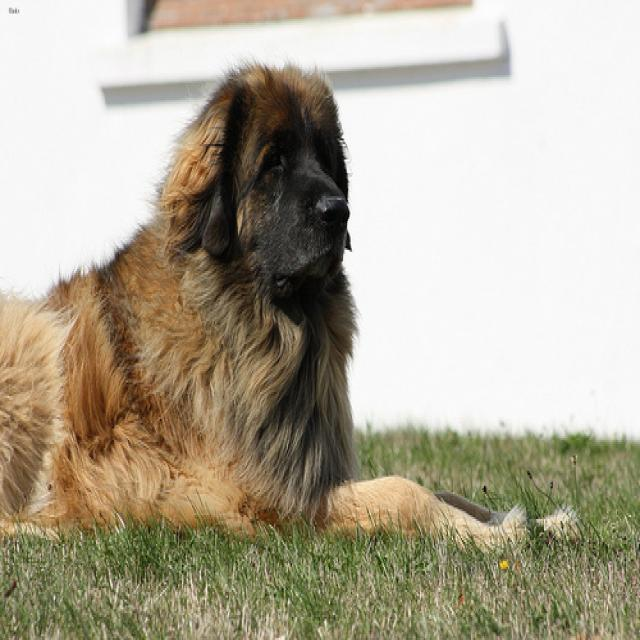dog-leonberger: (1, 48, 586, 559)
